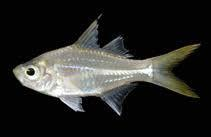Glass Perchlet: (14, 15, 201, 117)
